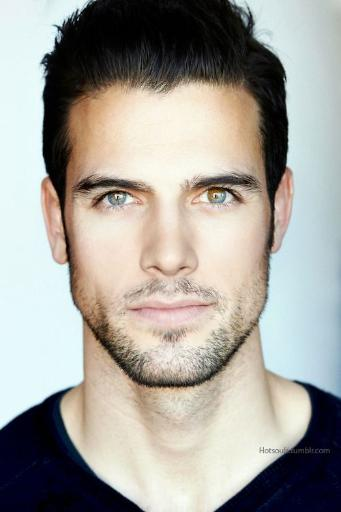left_eye: (189, 185, 247, 210)
left_lip_corner: (199, 296, 219, 318)
right_eye: (91, 187, 145, 214)
right_lip_corner: (122, 301, 142, 320)
